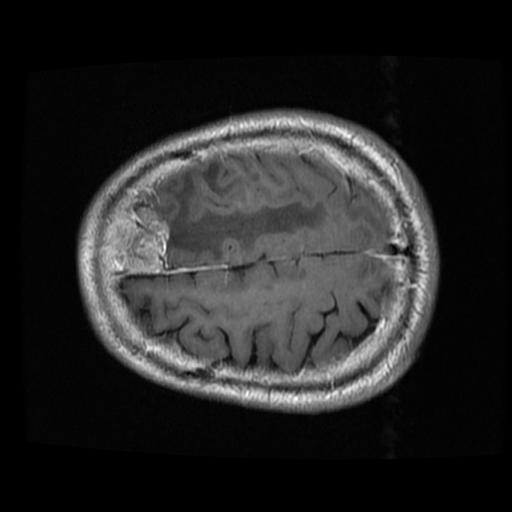meningioma: (110, 204, 169, 274)
